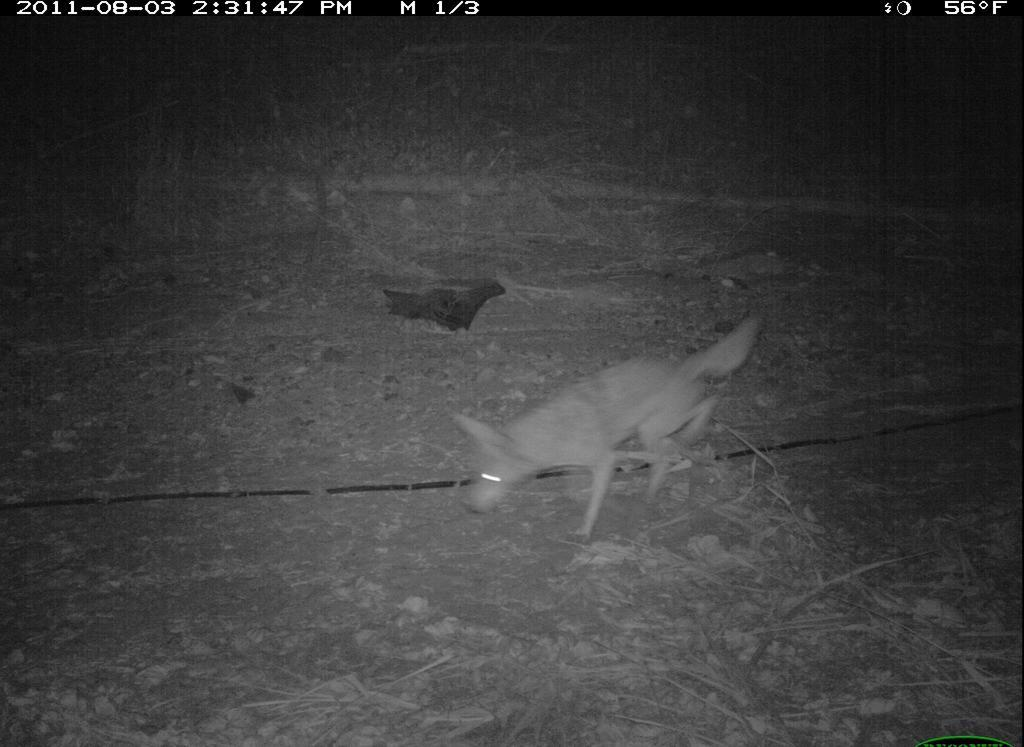coyote: (454, 317, 765, 546)
